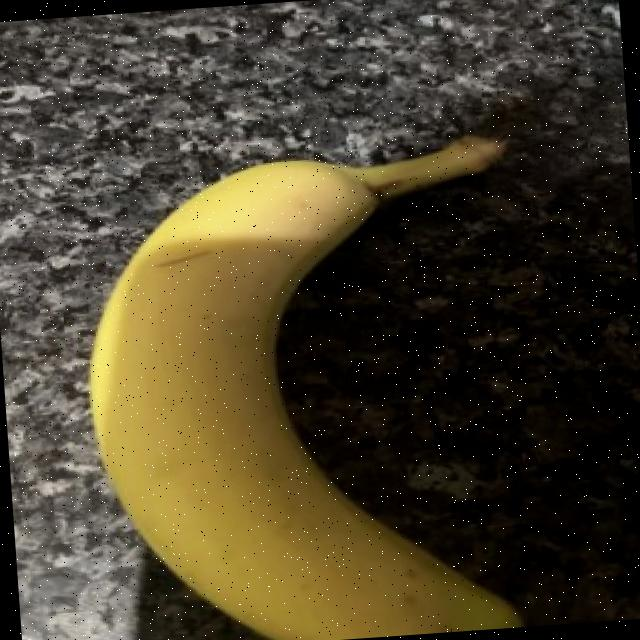Ripe: (27, 91, 603, 640)
